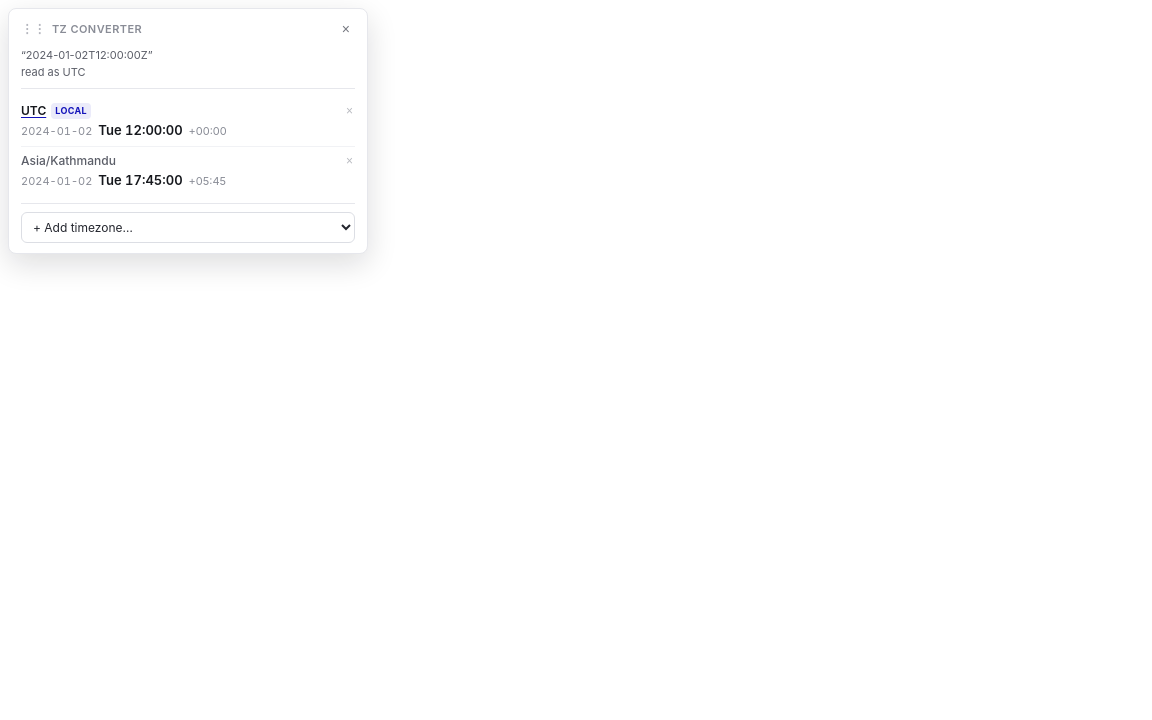
Popover › adds a timezone row via the dropdown
Step 1. Select "Asia/Tokyo" in the dropdown named "Add a timezone" → (188, 228), box [21,212,355,243]
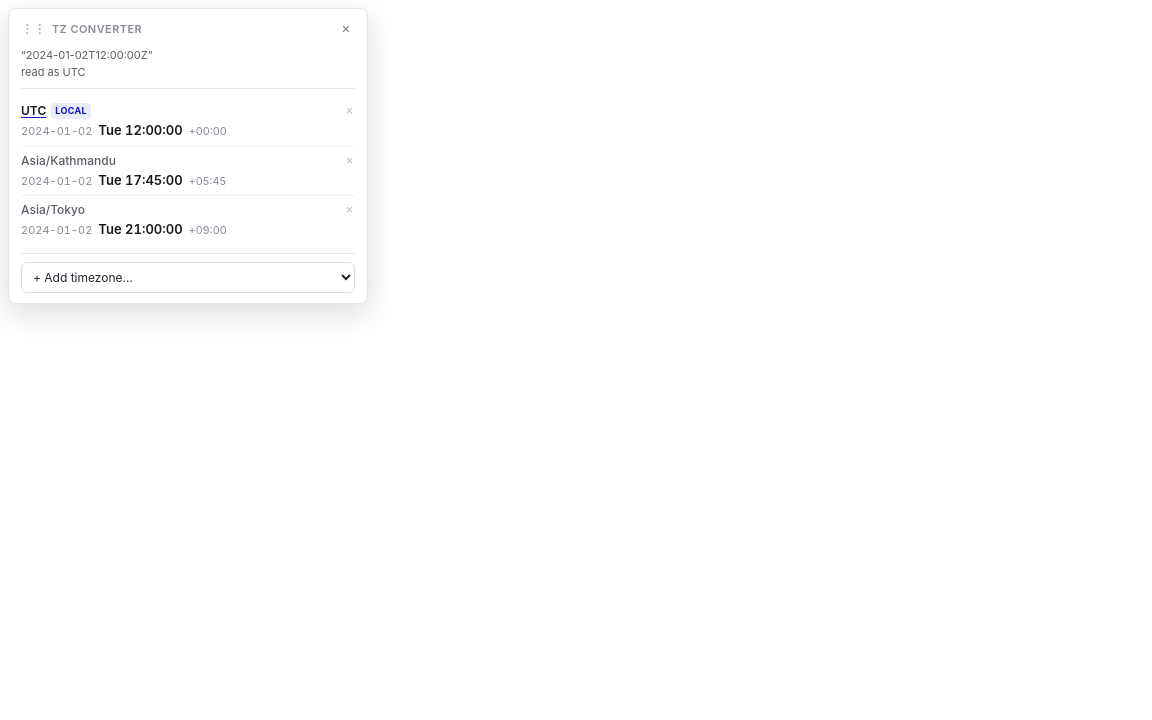
Expected: the number of elements with class "tzx-zone" is 3, [21,102,46,120]; [21,152,116,170]; [21,201,85,219]
